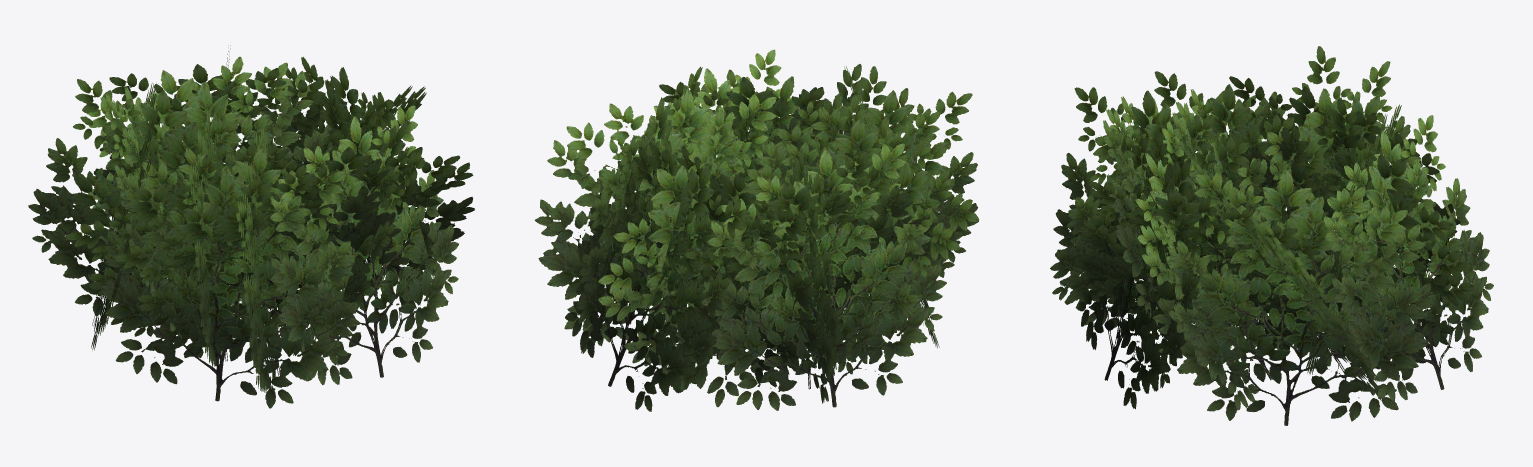
File: guanmu_013.FBX
3 renders of one model, left to right at view 1: azimuth 30°, elevation 25°; view 2: azimuth 150°, elevation 25°; view 3: azimuth 270°, elevation 25°, orthographic. The views are drawn at different scales.
Visible parts, largest first — view 1: guanmu_013_01; view 2: guanmu_013_01; view 3: guanmu_013_01.
Part boxes in pixels (left/top/right/bottom): guanmu_013_01: left=28, top=45, right=474, bottom=408; guanmu_013_01: left=534, top=49, right=979, bottom=411; guanmu_013_01: left=1050, top=46, right=1493, bottom=425.
Size of the model in its own units: 2.18 by 1.64 by 2.03.
